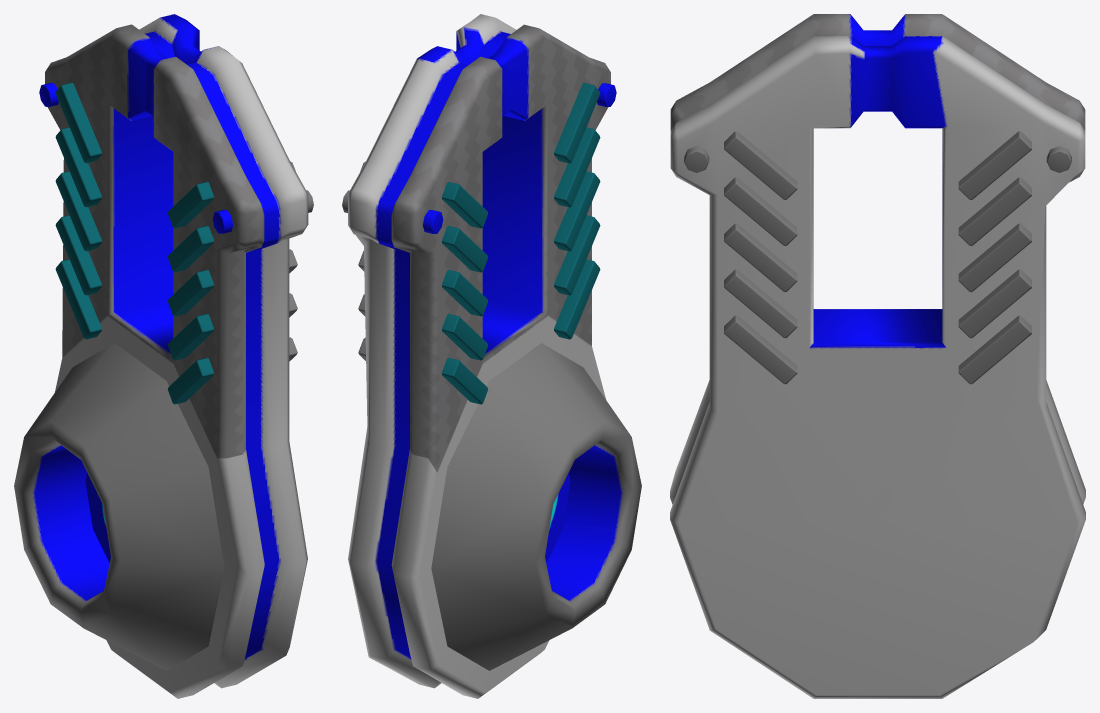
File: SM_Props_18.fbx
3 renders of one model, left to right at view 1: azimuth 30°, elevation 25°; view 2: azimuth 150°, elevation 25°; view 3: azimuth 270°, elevation 25°, orthographic. The views are drawn at different scales.
Visible parts, largest first — view 1: SM_Props_18; view 2: SM_Props_18; view 3: SM_Props_18.
Part boxes in pixels (x1,y1,x2,y2): SM_Props_18: (14,14,313,698); SM_Props_18: (342,14,641,698); SM_Props_18: (670,14,1085,698).
Bounding box in the file's own units: 19.94 × 43.47 × 75.56.
Materials: 1 (1 with a texture image).
